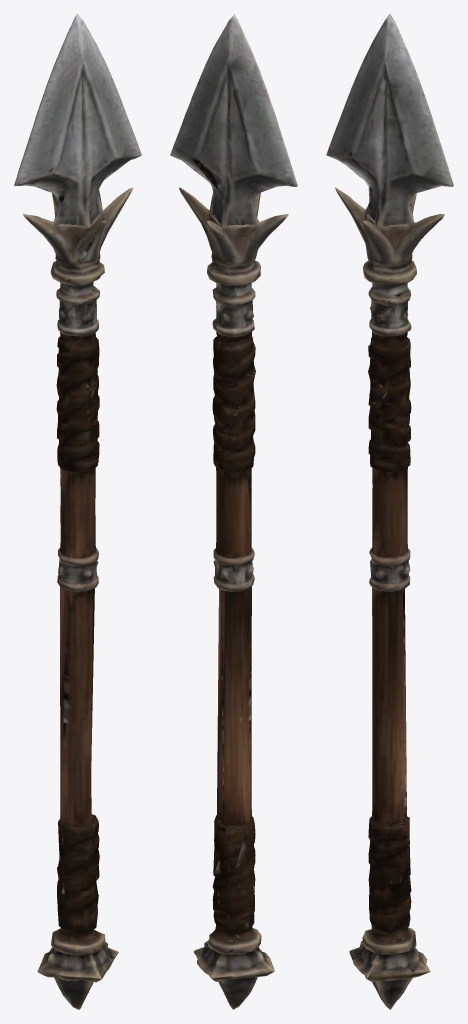
The model's file is spearWeapon.glb.
The picture shows the model from 3 angles, left to right: view 1: azimuth 30°, elevation 25°; view 2: azimuth 150°, elevation 25°; view 3: azimuth 330°, elevation 25°; orthographic projection.
Parts seen in each view (by area): view 1: world; view 2: world; view 3: world.
Boxes of the visible parts, x1,y1,x2,y2 form: world: (14,14,141,1009); world: (170,14,297,1009); world: (326,14,453,1009).
Size of the model in its own units: 0.1334 by 1 by 0.1002.
Materials: 1 (1 with a texture image).
